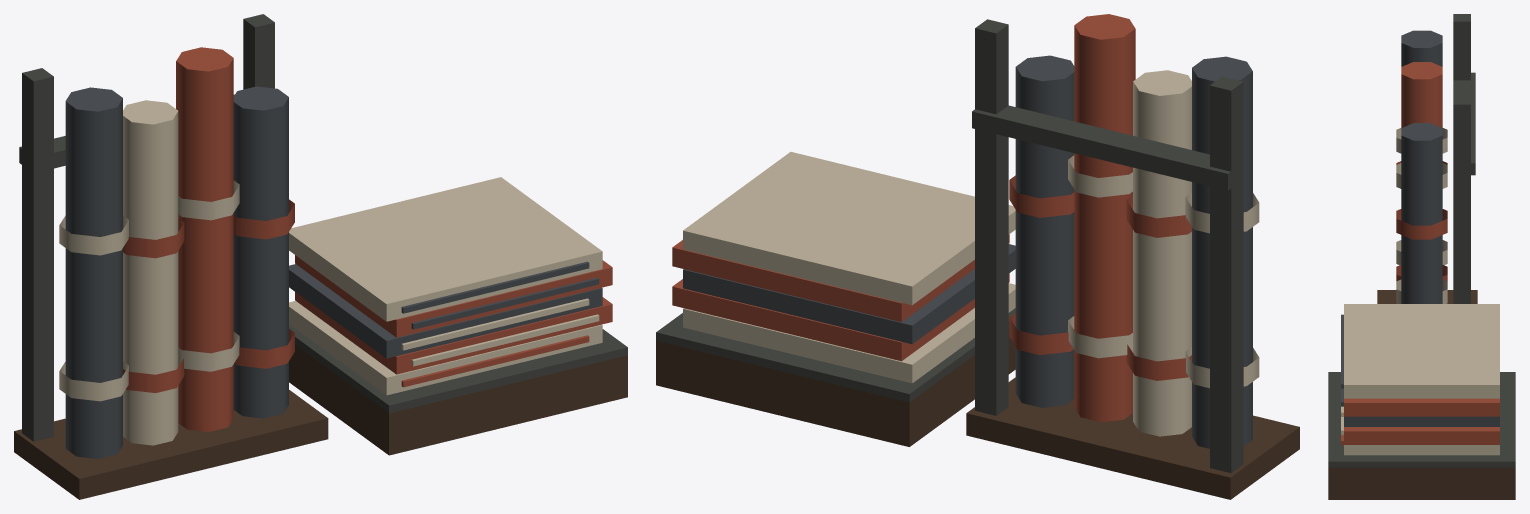
The model's file is goods_roll.glb.
3 renders of one model, left to right at view 1: azimuth 30°, elevation 25°; view 2: azimuth 150°, elevation 25°; view 3: azimuth 270°, elevation 25°, orthographic. The views are drawn at different scales.
Parts seen in each view (by area): view 1: goods_roll; view 2: goods_roll; view 3: goods_roll.
Part boxes in pixels (x1,y1,x2,y2): goods_roll: [14, 14, 627, 499]; goods_roll: [656, 14, 1299, 499]; goods_roll: [1328, 14, 1515, 499].
Bounding box in the file's own units: 2.05 × 1.45 × 0.84.
